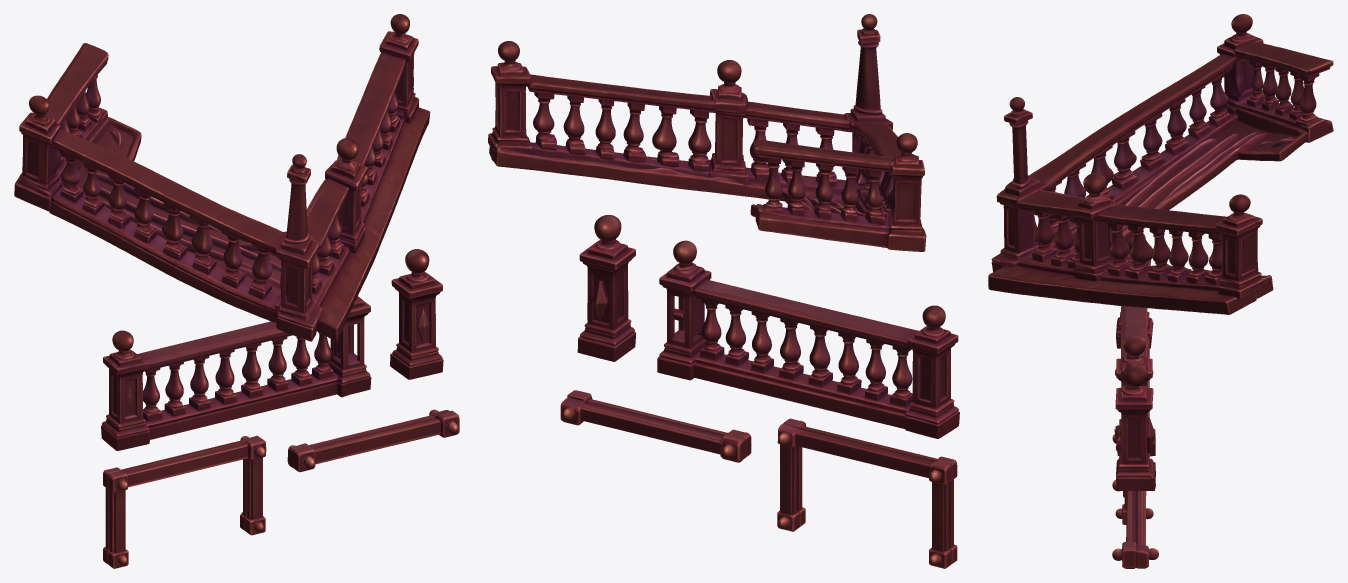
Rendered from stairs-railing.glb.
3 renders of one model, left to right at view 1: azimuth 30°, elevation 25°; view 2: azimuth 150°, elevation 25°; view 3: azimuth 270°, elevation 25°, orthographic. The views are drawn at different scales.
Visible parts, largest first — view 1: model; view 2: model; view 3: model.
Boxes of the visible parts, bbox=[...] form: model: bbox=[14, 14, 459, 568]; model: bbox=[488, 14, 959, 568]; model: bbox=[988, 14, 1333, 568].
Size of the model in its own units: 1.85 by 1.9 by 1.38.
Materials: 1 (1 with a texture image).
